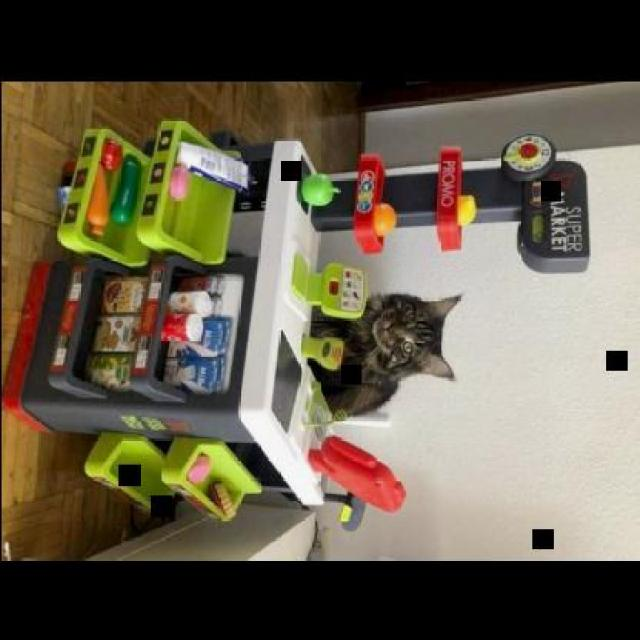unauthorized: (303, 289, 462, 429)
